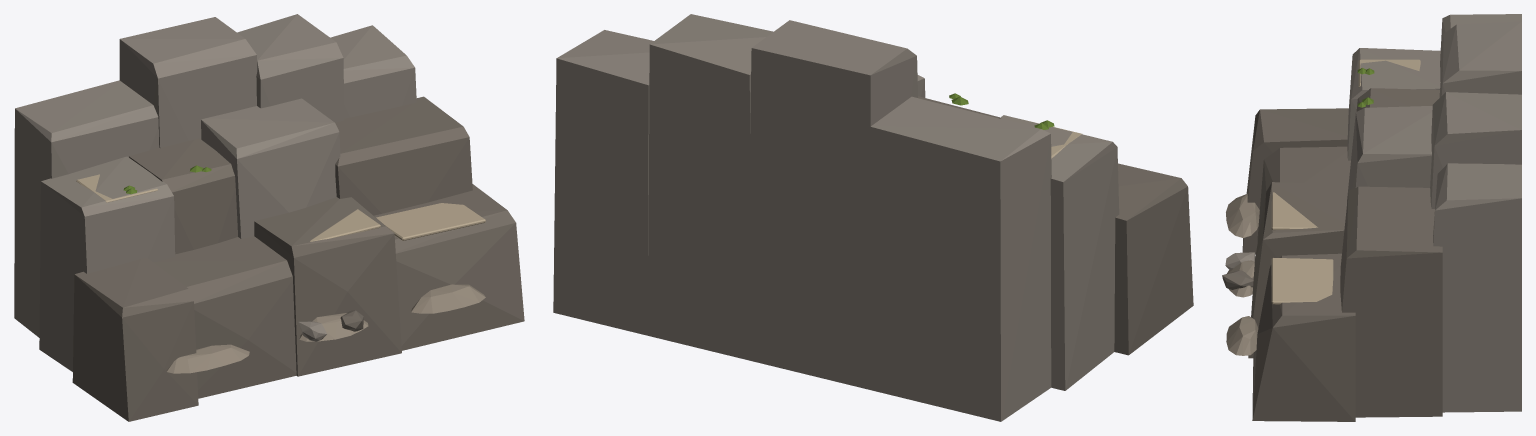
The model's file is Strata_Mid.fbx.
The picture shows the model from 3 angles, left to right: view 1: azimuth 30°, elevation 25°; view 2: azimuth 150°, elevation 25°; view 3: azimuth 270°, elevation 25°; orthographic projection. The views are drawn at different scales.
Visible parts, largest first — view 1: CliffDark, Cliff, RockLight, Gravel; view 2: Cliff, CliffDark; view 3: CliffDark, Cliff, RockLight, Gravel.
Part boxes in pixels (left/top/right/bottom): CliffDark: left=72, top=96, right=524, bottom=421; Cliff: left=14, top=14, right=416, bottom=371; RockLight: left=76, top=174, right=485, bottom=241; Gravel: left=166, top=284, right=485, bottom=373; Cliff: left=553, top=14, right=1119, bottom=421; CliffDark: left=918, top=96, right=1193, bottom=355; CliffDark: left=1222, top=88, right=1442, bottom=421; Cliff: left=1225, top=14, right=1521, bottom=412; RockLight: left=1271, top=59, right=1420, bottom=304; Gravel: left=1226, top=193, right=1259, bottom=355.
Size of the model in its own units: 30.34 by 18.22 by 18.93.
